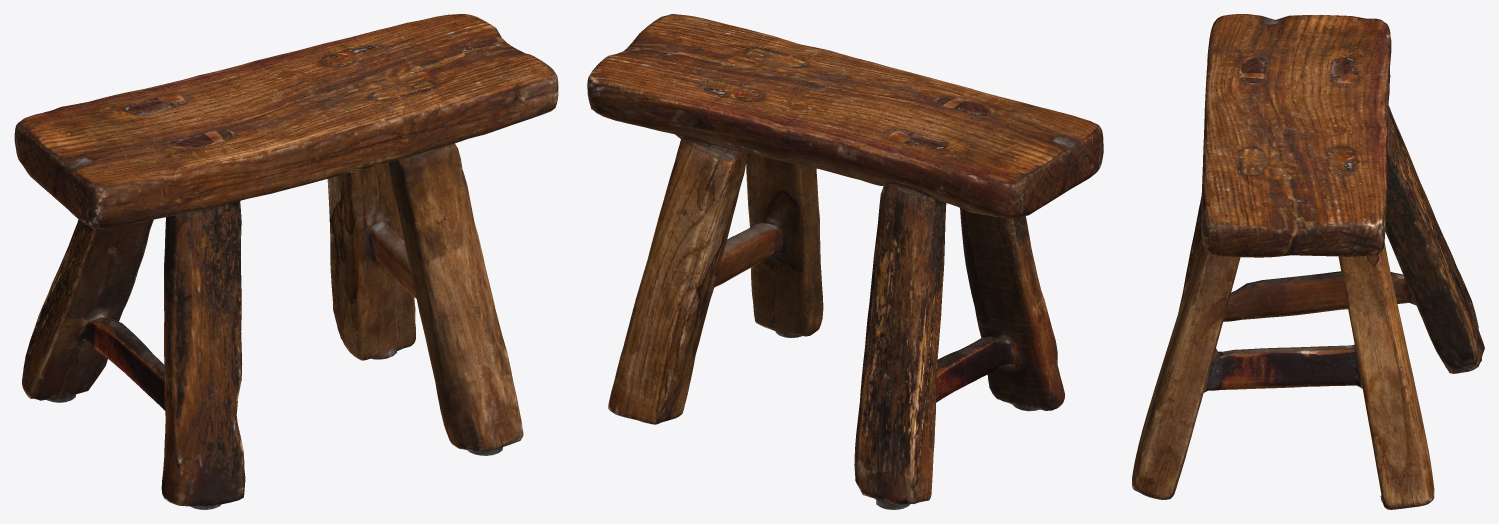
Rendered from eb82ecf0-7240-4e91-a699-ed8f28cae459.glb.
3 views of the same model, side by side, from view 1: azimuth 30°, elevation 25°; view 2: azimuth 150°, elevation 25°; view 3: azimuth 270°, elevation 25° (orthographic). The views are drawn at different scales.
Parts seen in each view (by area): view 1: wooden_stool_02; view 2: wooden_stool_02; view 3: wooden_stool_02.
Boxes of the visible parts, bbox=[...] form: wooden_stool_02: bbox=[14, 14, 558, 509]; wooden_stool_02: bbox=[587, 14, 1103, 509]; wooden_stool_02: bbox=[1132, 14, 1484, 509].
Size of the model in its own units: 0.2652 by 0.1819 by 0.1831.
1 material, 1 textured.
